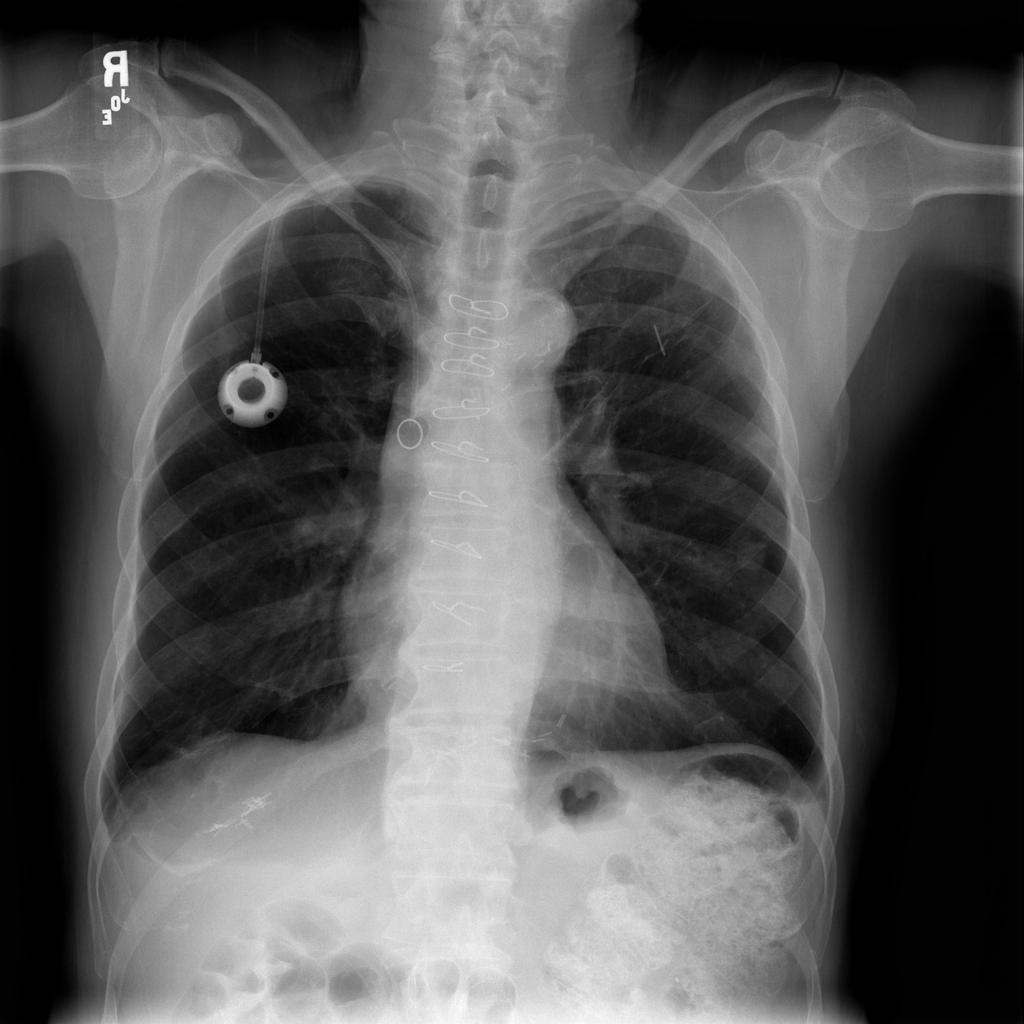nodule: (716, 518, 784, 589)
